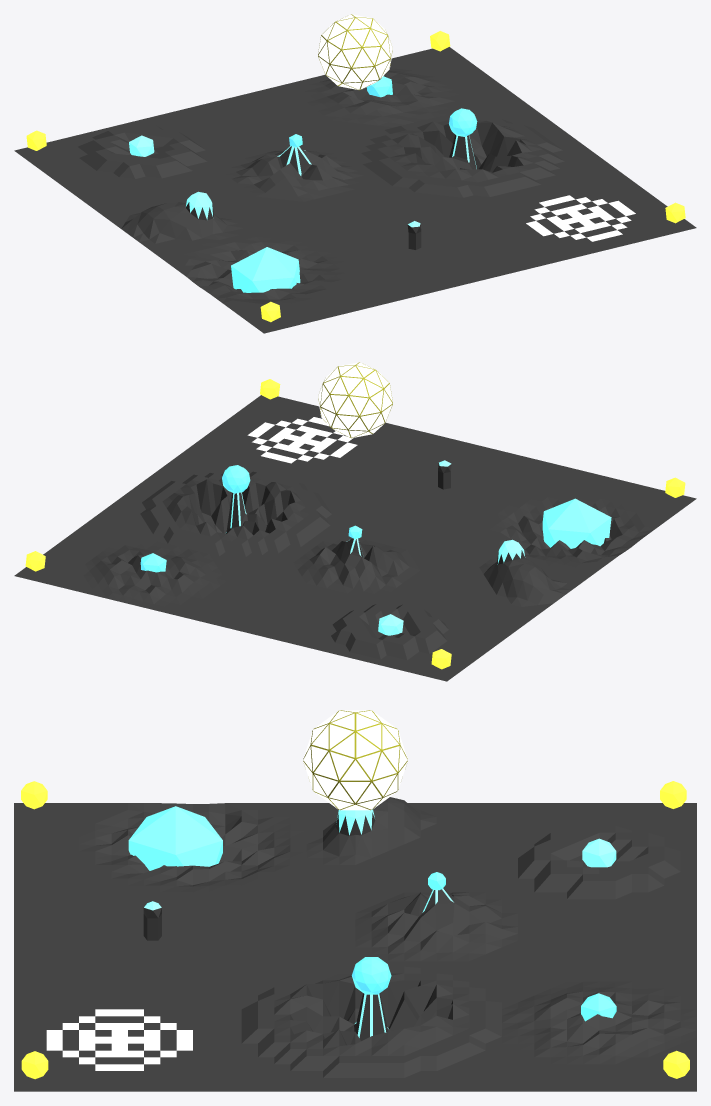
3 renders of one model, top to bottom at view 1: azimuth 30°, elevation 25°; view 2: azimuth 150°, elevation 25°; view 3: azimuth 270°, elevation 25°, orthographic. The views are drawn at different scales.
Visible parts, largest first — view 1: Ground_0, Icosphere sun_5, Icosphere meteor_8, Icosphere phar_10; view 2: Ground_0, Icosphere sun_5, Icosphere meteor_8, Icosphere phar_10; view 3: Ground_0, Icosphere sun_5, Icosphere meteor_8, Icosphere phar_10, Icosphere meteor 2_9, Icosphere phar 3_7, Icosphere guard 4_3, Icosphere guard 2_4, Icosphere guard_1, Icosphere guard 3_2.
Boxes of the visible parts, box(x1,y1,x2,y2) form: Ground_0: box(14, 47, 696, 333); Icosphere sun_5: box(318, 14, 392, 90); Icosphere meteor_8: box(231, 247, 300, 292); Icosphere phar_10: box(449, 108, 477, 136); Ground_0: box(14, 395, 696, 681); Icosphere sun_5: box(318, 362, 392, 438); Icosphere meteor_8: box(542, 498, 611, 548); Icosphere phar_10: box(222, 465, 250, 493); Ground_0: box(14, 797, 696, 1091); Icosphere sun_5: box(303, 710, 407, 810); Icosphere meteor_8: box(128, 806, 222, 870); Icosphere phar_10: box(351, 957, 391, 994); Icosphere meteor 2_9: box(582, 838, 616, 867); Icosphere phar 3_7: box(581, 993, 616, 1021); Icosphere guard 4_3: box(21, 1051, 48, 1079); Icosphere guard 2_4: box(21, 781, 47, 809); Icosphere guard_1: box(660, 781, 686, 808); Icosphere guard 3_2: box(663, 1050, 689, 1078).
Bounding box in the file's own units: 97.49 × 46.74 × 97.49.
